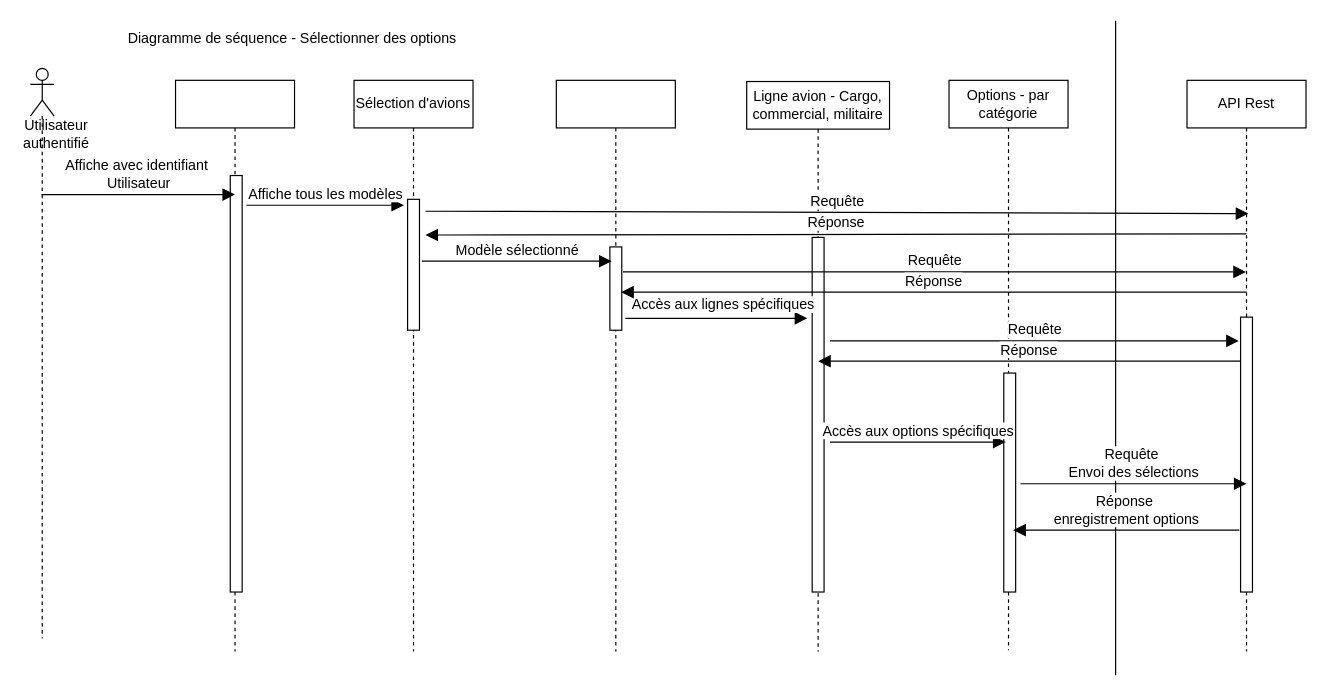
This 1327x697 diagram has some shape labels left out. Each missing label, with the box of its shape:
App Front: (174, 79, 295, 652)
Avion(id): (555, 79, 675, 652)
